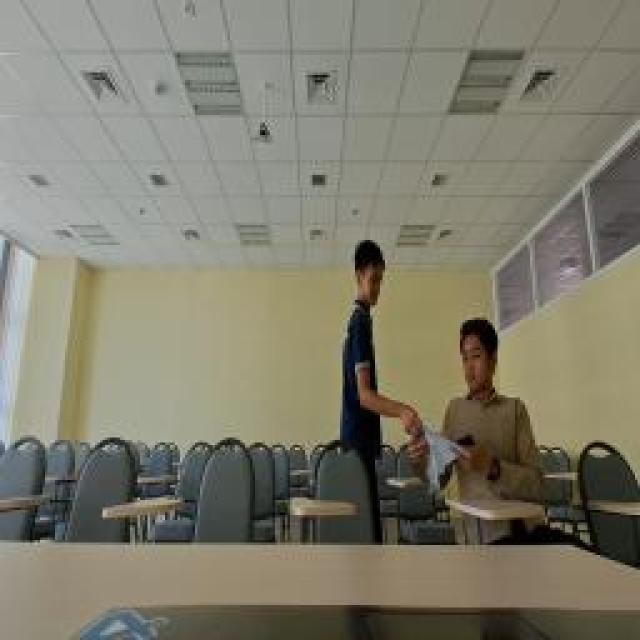study: (412, 310, 532, 510)
